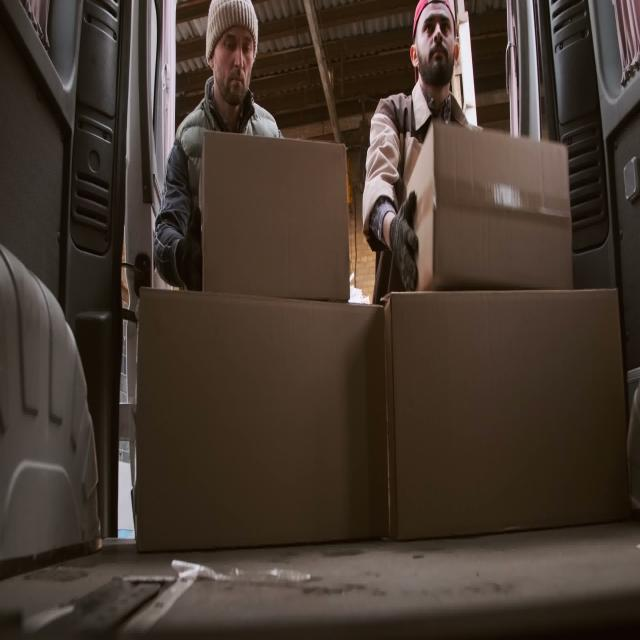counting-the-number-of-boxes: (136, 286, 389, 547), (384, 289, 629, 542), (403, 122, 573, 293), (198, 132, 350, 300)
